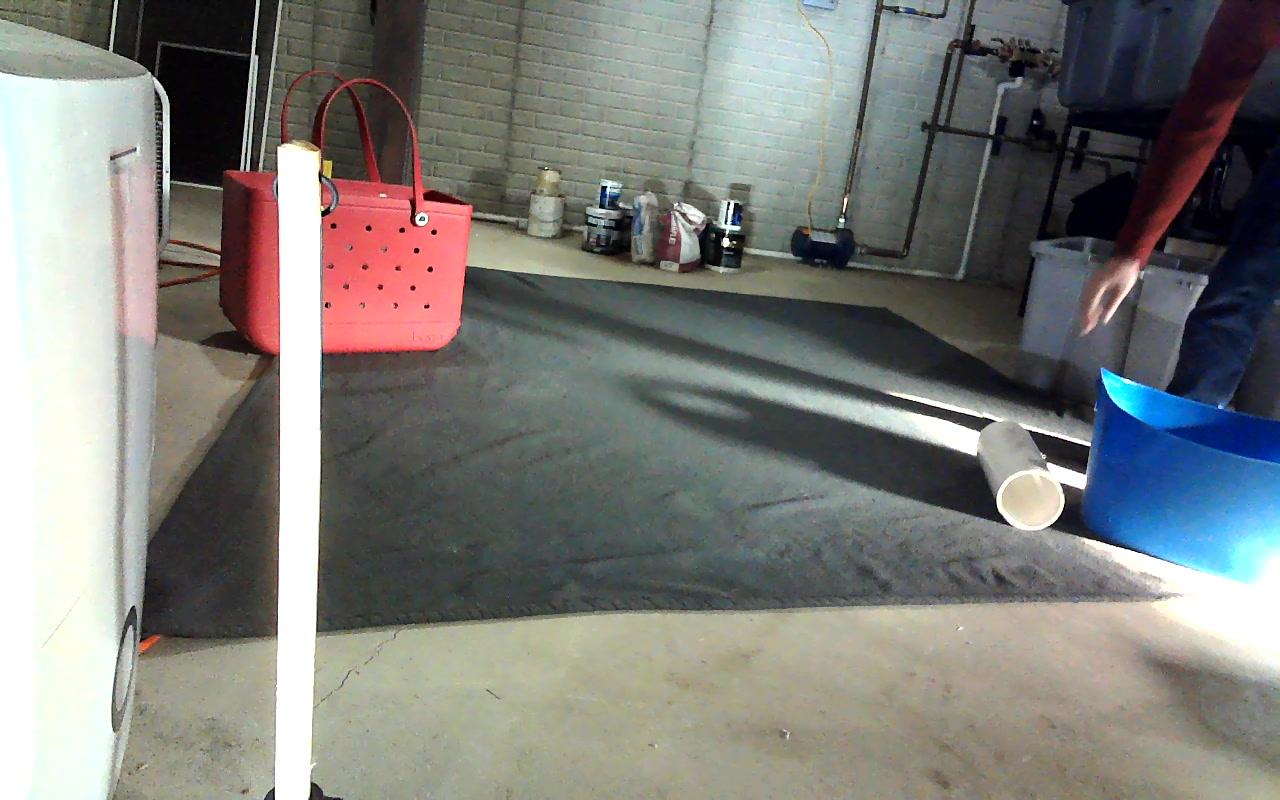coral: (978, 420, 1065, 529)
